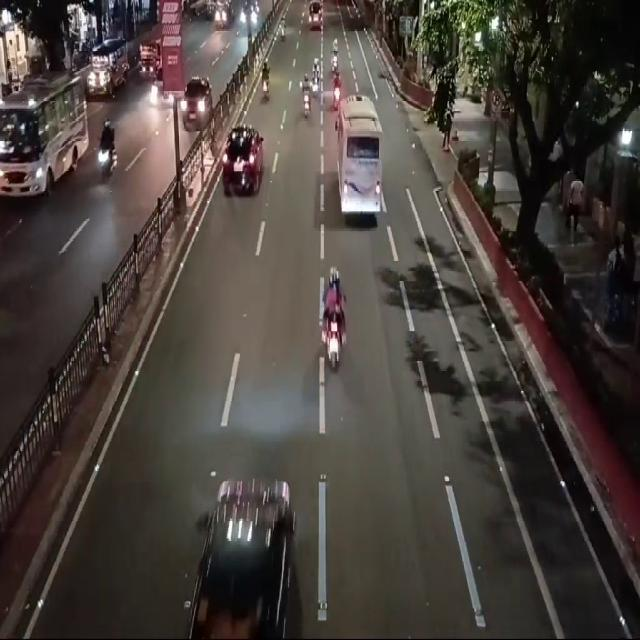car: (216, 113, 271, 212)
jeepney: (0, 49, 97, 206), (333, 90, 389, 236)
motorcycle: (319, 259, 353, 374), (92, 116, 121, 184), (258, 52, 276, 105), (328, 34, 344, 80), (299, 73, 313, 121), (312, 51, 322, 97)
